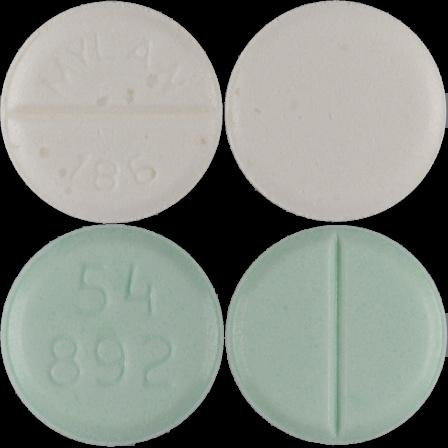16590-267: (0, 0, 224, 224)
